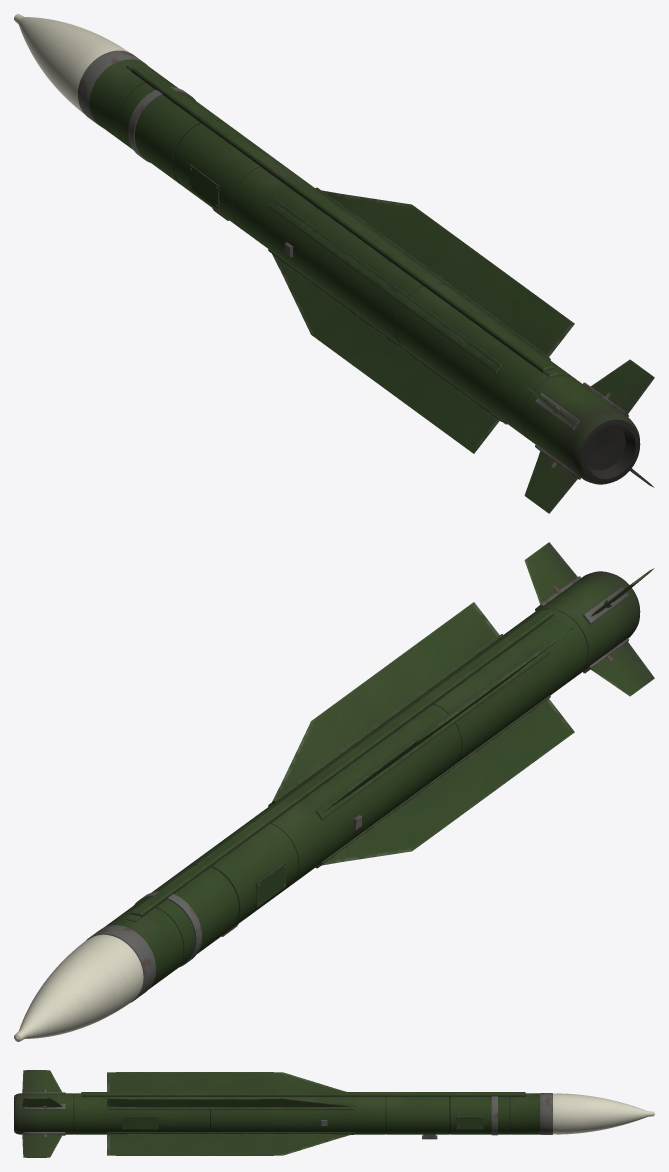
File: msl_buk.glb
3 views of the same model, one above another, from view 1: azimuth 30°, elevation 25°; view 2: azimuth 150°, elevation 25°; view 3: azimuth 270°, elevation 25° (orthographic). The views are drawn at different scales.
Parts seen in each view (by area): view 1: body|M38_atlas; view 2: body|M38_atlas; view 3: body|M38_atlas.
Part boxes in pixels (left/top/right/bottom): body|M38_atlas: left=14, top=14, right=654, bottom=513; body|M38_atlas: left=14, top=542, right=654, bottom=1041; body|M38_atlas: left=14, top=1070, right=654, bottom=1157.
Size of the model in its own units: 0.6437 by 0.6437 by 6.2.
Materials: 1 (1 with a texture image).
